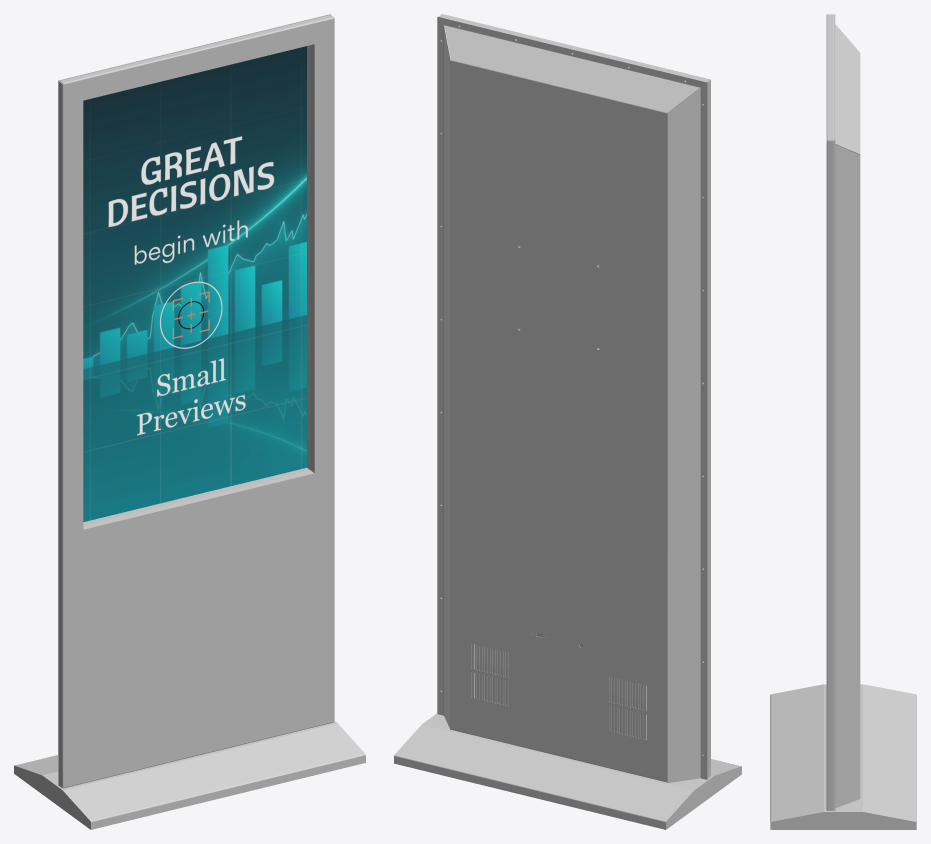
3 renders of one model, left to right at view 1: azimuth 30°, elevation 25°; view 2: azimuth 150°, elevation 25°; view 3: azimuth 270°, elevation 25°, orthographic. The views are drawn at different scales.
Visible parts, largest first — view 1: 43 Inch Totem-Assy.001; view 2: 43 Inch Totem-Assy.001; view 3: 43 Inch Totem-Assy.001.
Part boxes in pixels (left/top/right/bottom): 43 Inch Totem-Assy.001: left=14, top=14, right=365, bottom=829; 43 Inch Totem-Assy.001: left=394, top=14, right=741, bottom=829; 43 Inch Totem-Assy.001: left=770, top=14, right=916, bottom=829.
Bounding box in the file's own units: 0.6204 × 1.56 × 0.3.
Materials: 4 (1 with a texture image).
